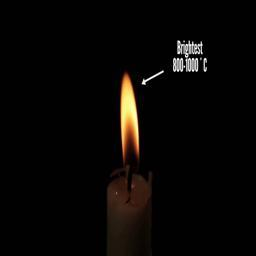fire: (119, 73, 140, 159)
